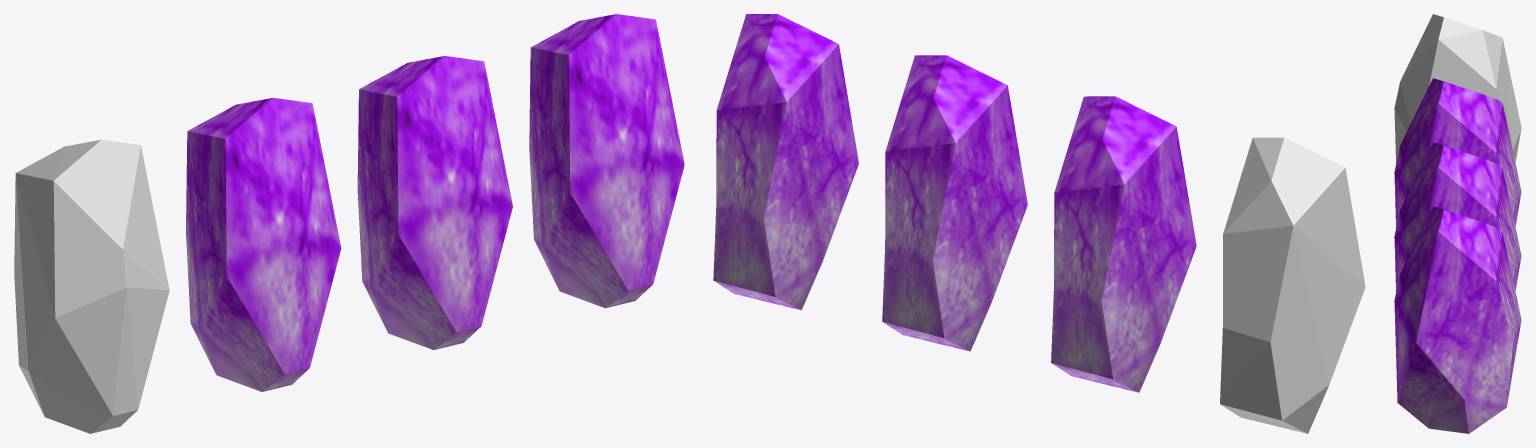
File: hwccrystal_2_02.dae
3 renders of one model, left to right at view 1: azimuth 30°, elevation 25°; view 2: azimuth 150°, elevation 25°; view 3: azimuth 270°, elevation 25°, orthographic. The views are drawn at different scales.
Visible parts, largest first — view 1: MULT[root_mesh]_LOD[2], MULT[root_mesh]_LOD[1], COL[Root], MULT[root_mesh]_LOD[0]; view 2: MULT[root_mesh]_LOD[2], MULT[root_mesh]_LOD[1], MULT[root_mesh]_LOD[0], COL[Root]; view 3: MULT[root_mesh]_LOD[2], COL[Root], MULT[root_mesh]_LOD[0], MULT[root_mesh]_LOD[1].
Part boxes in pixels (x1,y1,x2,y2): MULT[root_mesh]_LOD[2]: (529, 14, 684, 308); MULT[root_mesh]_LOD[1]: (357, 56, 512, 349); COL[Root]: (14, 139, 169, 433); MULT[root_mesh]_LOD[0]: (186, 97, 341, 391); MULT[root_mesh]_LOD[2]: (713, 14, 858, 310); MULT[root_mesh]_LOD[1]: (882, 55, 1027, 351); MULT[root_mesh]_LOD[0]: (1051, 96, 1196, 392); COL[Root]: (1220, 137, 1365, 433); MULT[root_mesh]_LOD[2]: (1394, 206, 1521, 433); COL[Root]: (1394, 14, 1521, 163); MULT[root_mesh]_LOD[0]: (1394, 78, 1521, 227); MULT[root_mesh]_LOD[1]: (1394, 142, 1521, 291).
Bounding box in the file's own units: 375 × 160 × 85.7.
